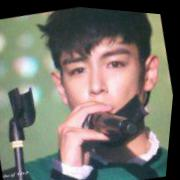WRONG: (51, 26, 161, 151)
